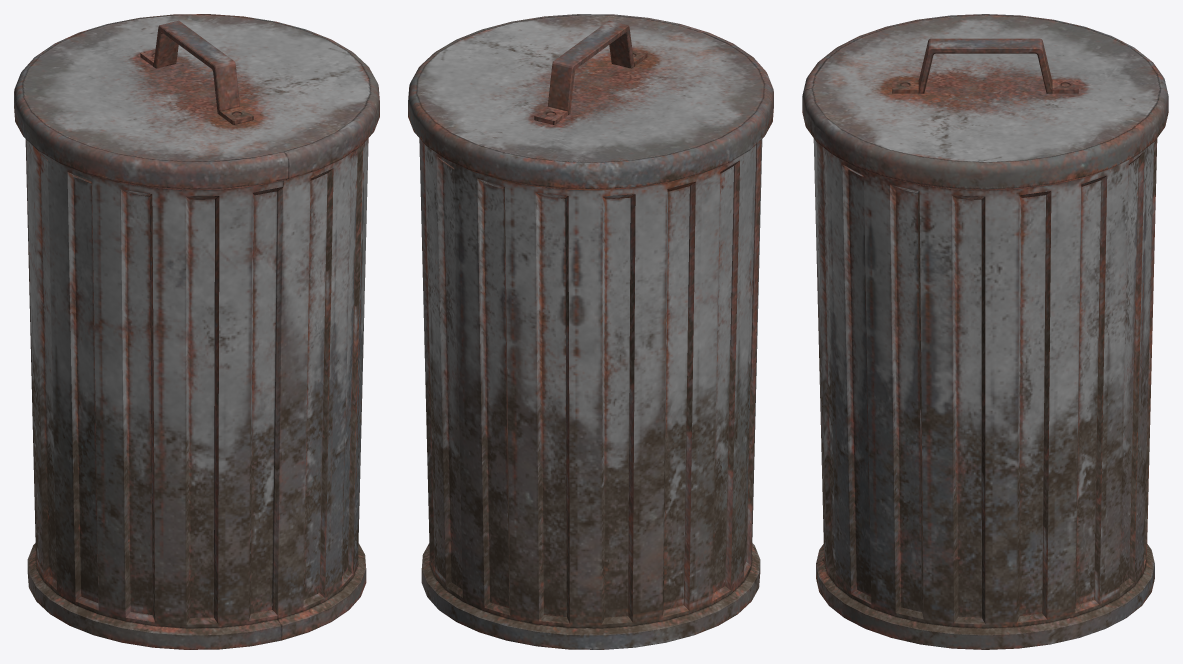
Rendered from bin.glb.
The picture shows the model from 3 angles, left to right: view 1: azimuth 30°, elevation 25°; view 2: azimuth 150°, elevation 25°; view 3: azimuth 270°, elevation 25°; orthographic projection.
Parts seen in each view (by area): view 1: Cylinder.001; view 2: Cylinder.001; view 3: Cylinder.001.
Boxes of the visible parts, <box> form: Cylinder.001: <box>14,14,379,649</box>; Cylinder.001: <box>408,14,773,649</box>; Cylinder.001: <box>802,14,1168,649</box>.
Bounding box in the file's own units: 0.9085 × 1.46 × 0.9085.
1 material, 1 textured.
